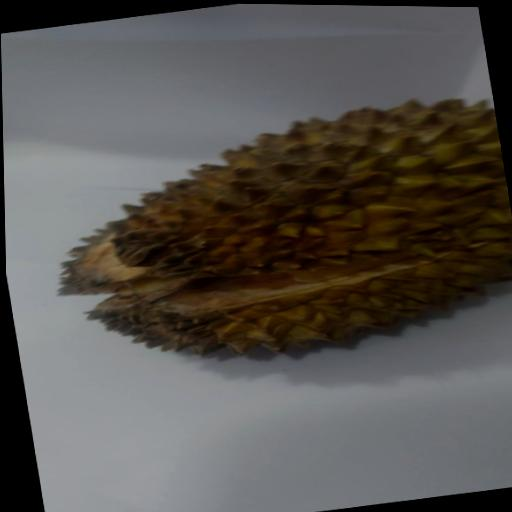rot: (24, 67, 512, 408)
